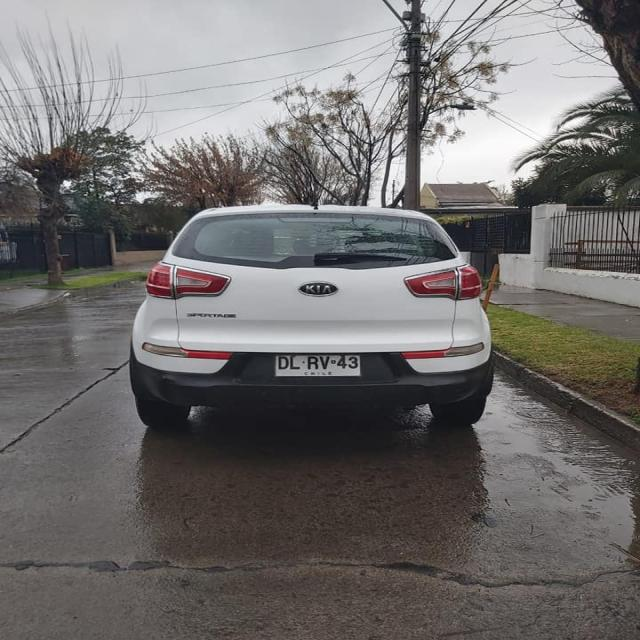patente: (272, 353, 362, 378)
